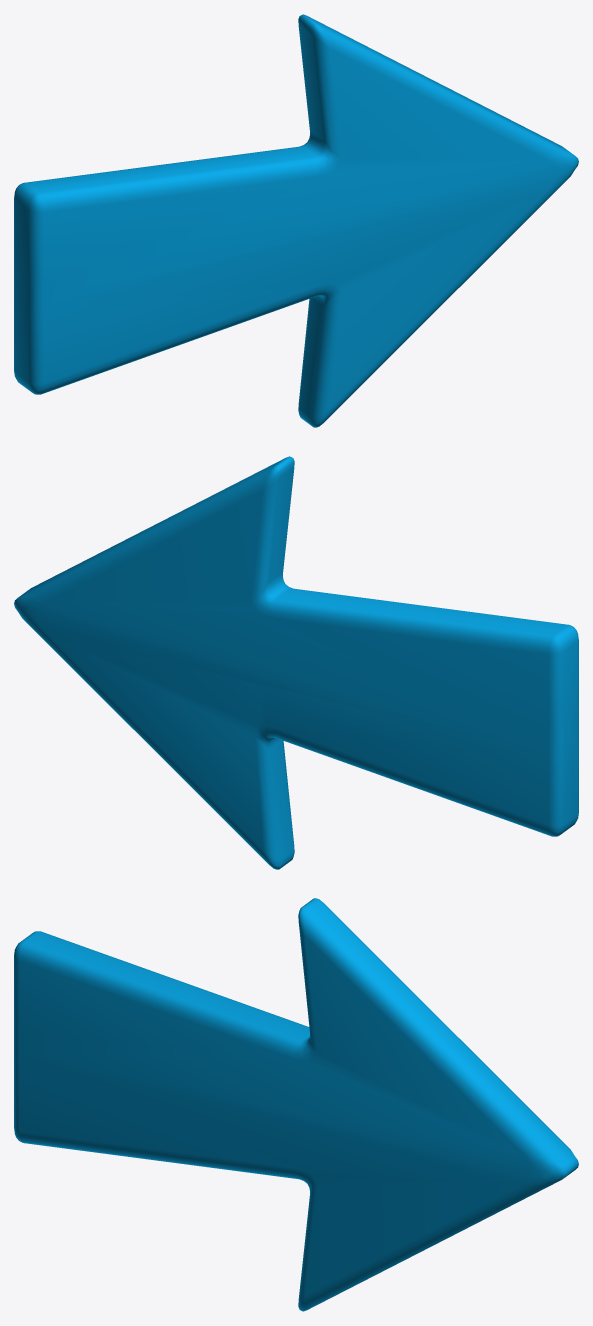
The model's file is panah.fbx.
3 views of the same model, one above another, from view 1: azimuth 30°, elevation 25°; view 2: azimuth 150°, elevation 25°; view 3: azimuth 330°, elevation 25° (orthographic).
Parts seen in each view (by area): view 1: Arrow; view 2: Arrow; view 3: Arrow.
Boxes of the visible parts, box(x1,y1,x2,y2) form: Arrow: box(14, 14, 578, 427); Arrow: box(14, 456, 578, 869); Arrow: box(14, 898, 578, 1311).
Size of the model in its own units: 93.32 by 65.41 by 7.27.
